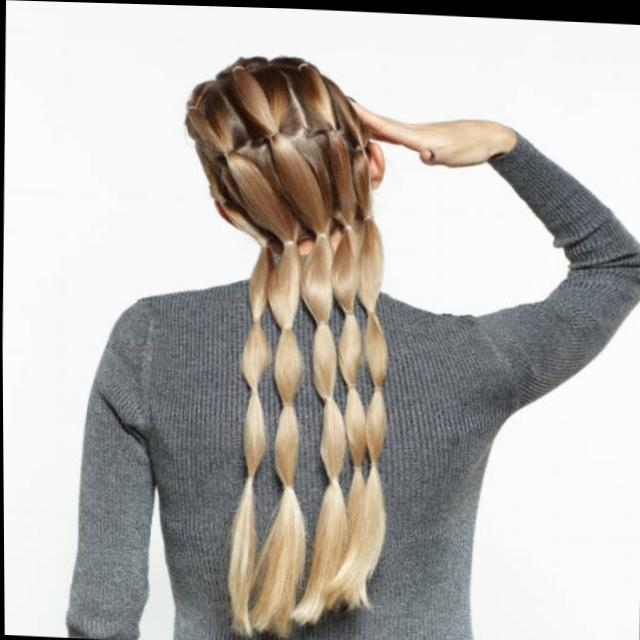no helmet: (167, 36, 403, 260)
